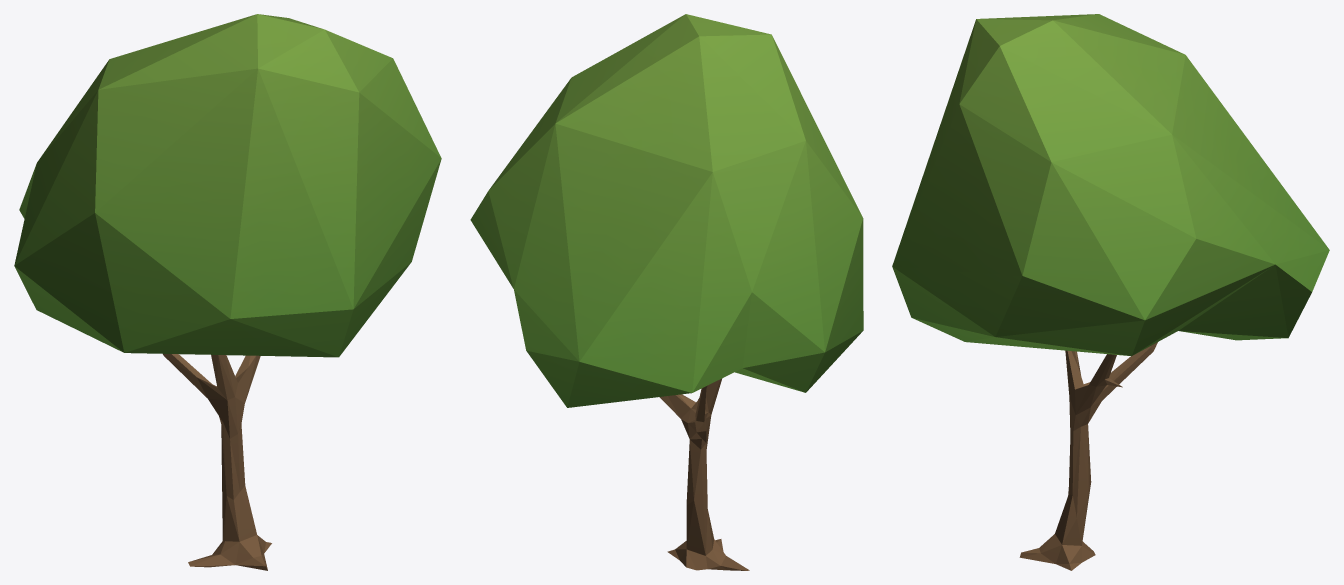
File: SM_Nature_Tree_03.fbx
3 renders of one model, left to right at view 1: azimuth 30°, elevation 25°; view 2: azimuth 150°, elevation 25°; view 3: azimuth 270°, elevation 25°, orthographic. The views are drawn at different scales.
Parts seen in each view (by area): view 1: SM_Nature_Tree_03_LOD0; view 2: SM_Nature_Tree_03_LOD0; view 3: SM_Nature_Tree_03_LOD0.
Boxes of the visible parts, left/top/right/bottom form: SM_Nature_Tree_03_LOD0: left=14, top=14, right=441, bottom=570; SM_Nature_Tree_03_LOD0: left=470, top=14, right=863, bottom=570; SM_Nature_Tree_03_LOD0: left=892, top=14, right=1329, bottom=570.
Bounding box in the file's own units: 8.58 × 11.72 × 8.56.
